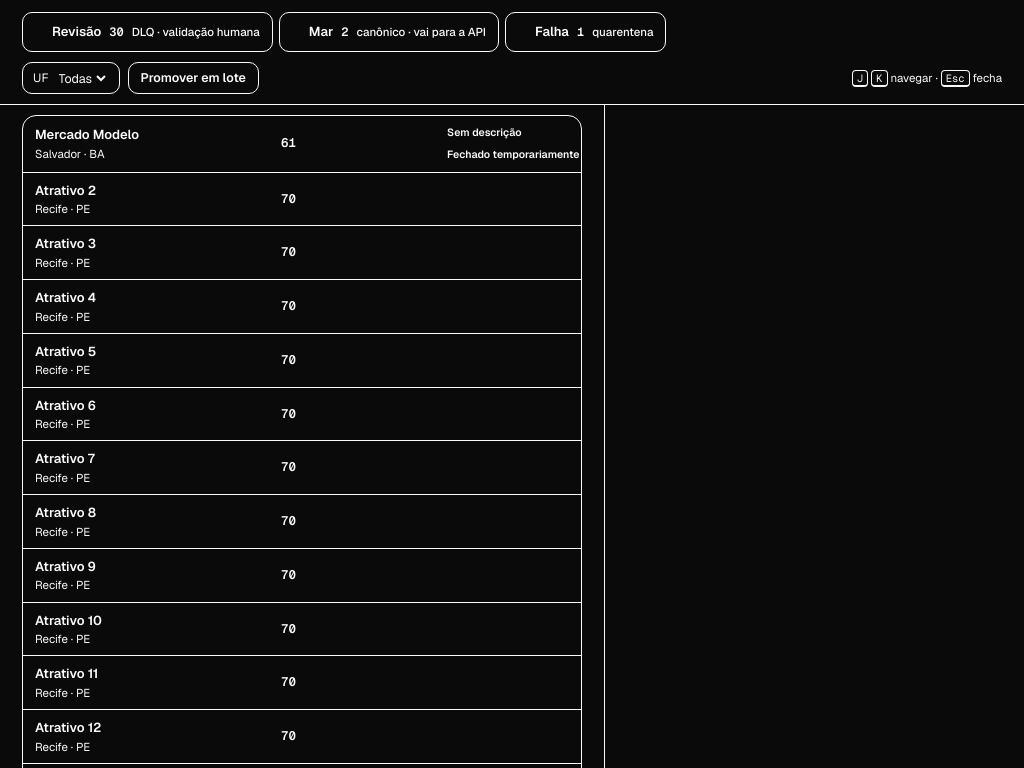
Test case: Registros — tabs and list › a new tab never shows the previous tab's rows while it loads
Expected: the text "Mercado Modelo" is shown, left=35, top=126, right=139, bottom=143
What coordinates should you click on to do the following:
click the tab "Mar 2 canônico · vai para a API"
I would click on:
 (389, 32)
Its box is left=279, top=12, right=499, bottom=52.
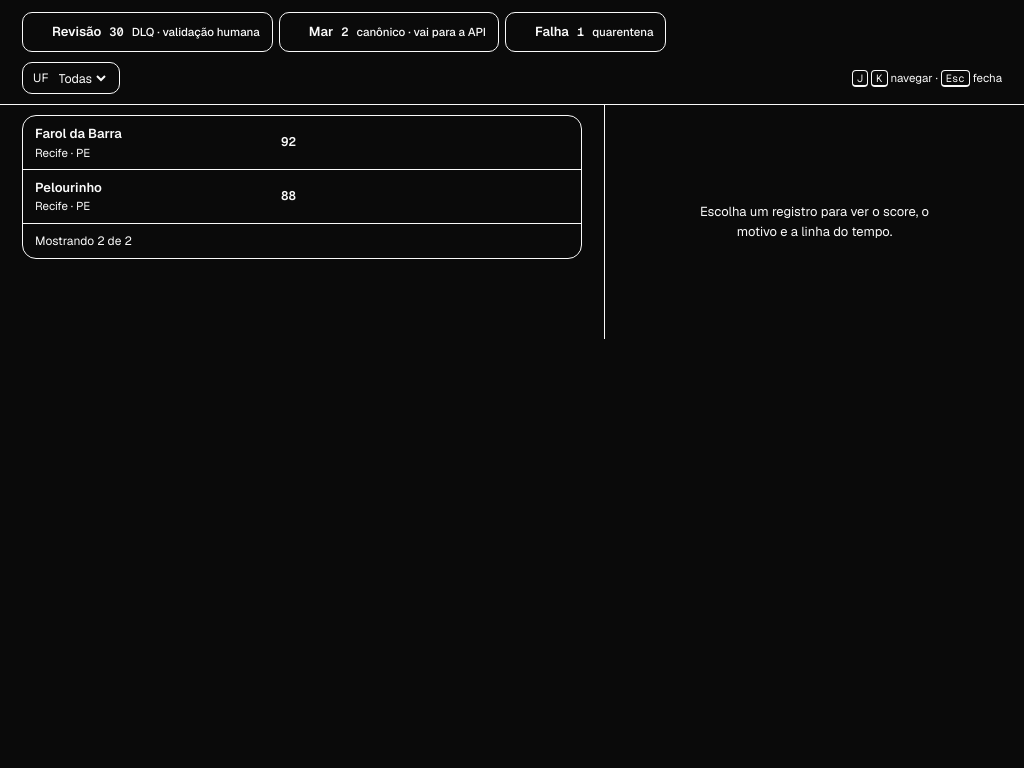
Expected: the text "Carregando…" is shown, left=22, top=115, right=582, bottom=258
Now the option "Mercado Modelo" is gone
Now the text "Farol da Barra" is shown, box left=35, top=125, right=122, bottom=142
